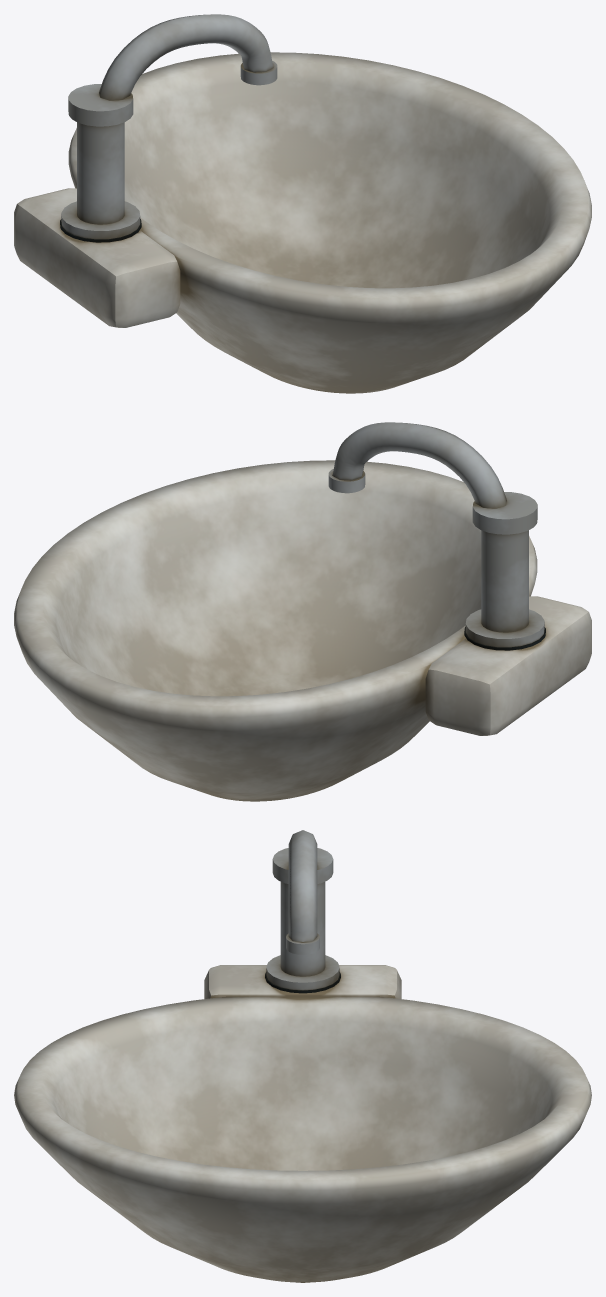
File: cuba_torneira_sujo_realista.glb
3 renders of one model, top to bottom at view 1: azimuth 30°, elevation 25°; view 2: azimuth 150°, elevation 25°; view 3: azimuth 270°, elevation 25°, orthographic. The views are drawn at different scales.
Parts seen in each view (by area): view 1: Cuba_torneira; view 2: Cuba_torneira; view 3: Cuba_torneira.
Part boxes in pixels (x1,y1,x2,y2): Cuba_torneira: [14, 14, 591, 393]; Cuba_torneira: [14, 422, 591, 801]; Cuba_torneira: [14, 830, 591, 1282].
Bounding box in the file's own units: 0.3916 × 0.3 × 0.44.
Materials: 1 (1 with a texture image).
